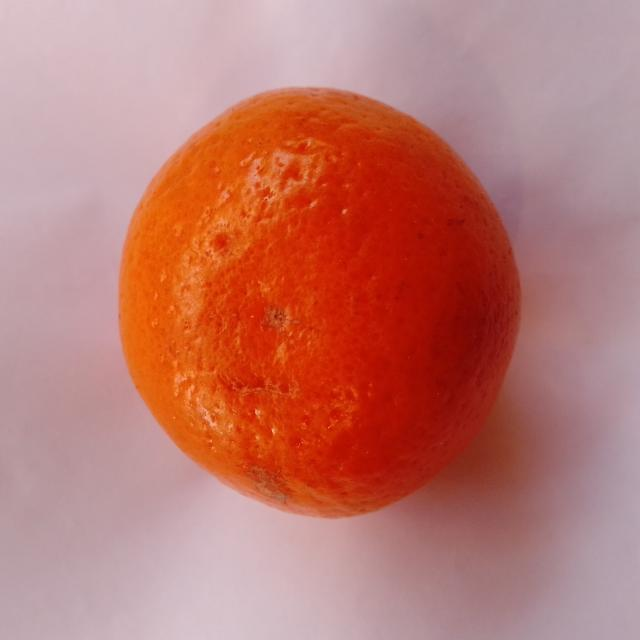orange: (120, 89, 519, 516)
